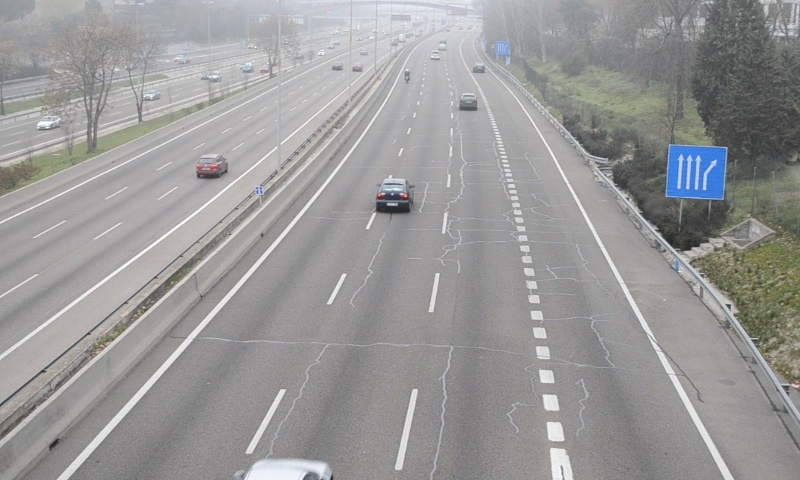car: (375, 178, 414, 214), (459, 92, 478, 112)
motorcycle: (404, 68, 411, 84)
